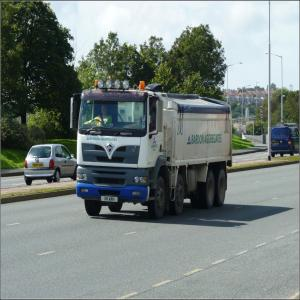Vehicle-registration-plate: (102, 197, 118, 204)
